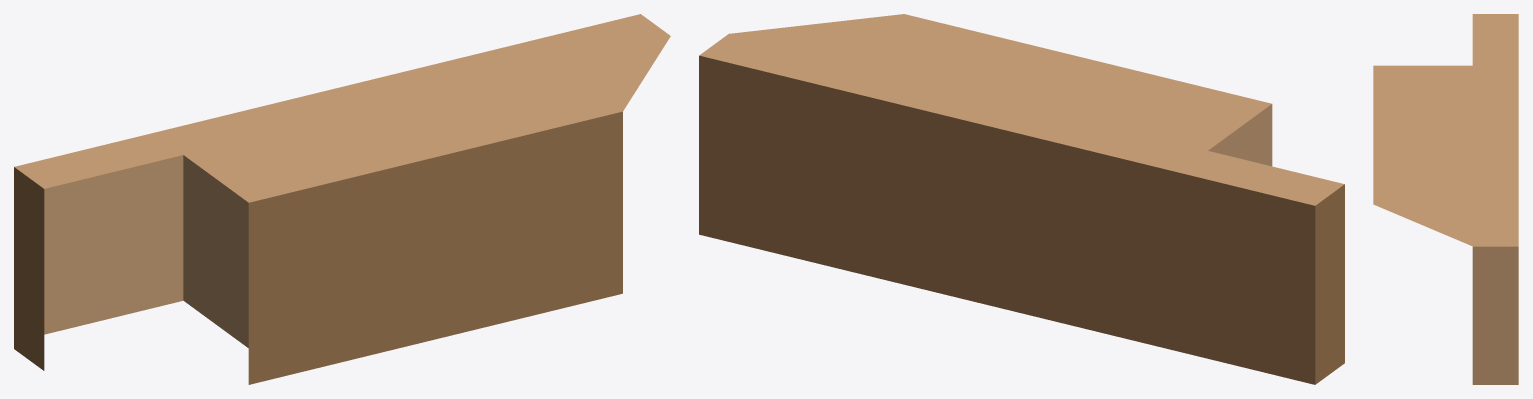
File: block.glb
3 views of the same model, side by side, from view 1: azimuth 30°, elevation 25°; view 2: azimuth 150°, elevation 25°; view 3: azimuth 270°, elevation 25° (orthographic). The views are drawn at different scales.
Visible parts, largest first — view 1: Plane; view 2: Plane; view 3: Plane.
Part boxes in pixels (x1=…): Plane: x1=14, y1=14, x2=670, y2=384; Plane: x1=699, y1=14, x2=1344, y2=384; Plane: x1=1373, y1=14, x2=1518, y2=384.
Size of what is drawn, in the model's own units: 72 by 20 by 19.
